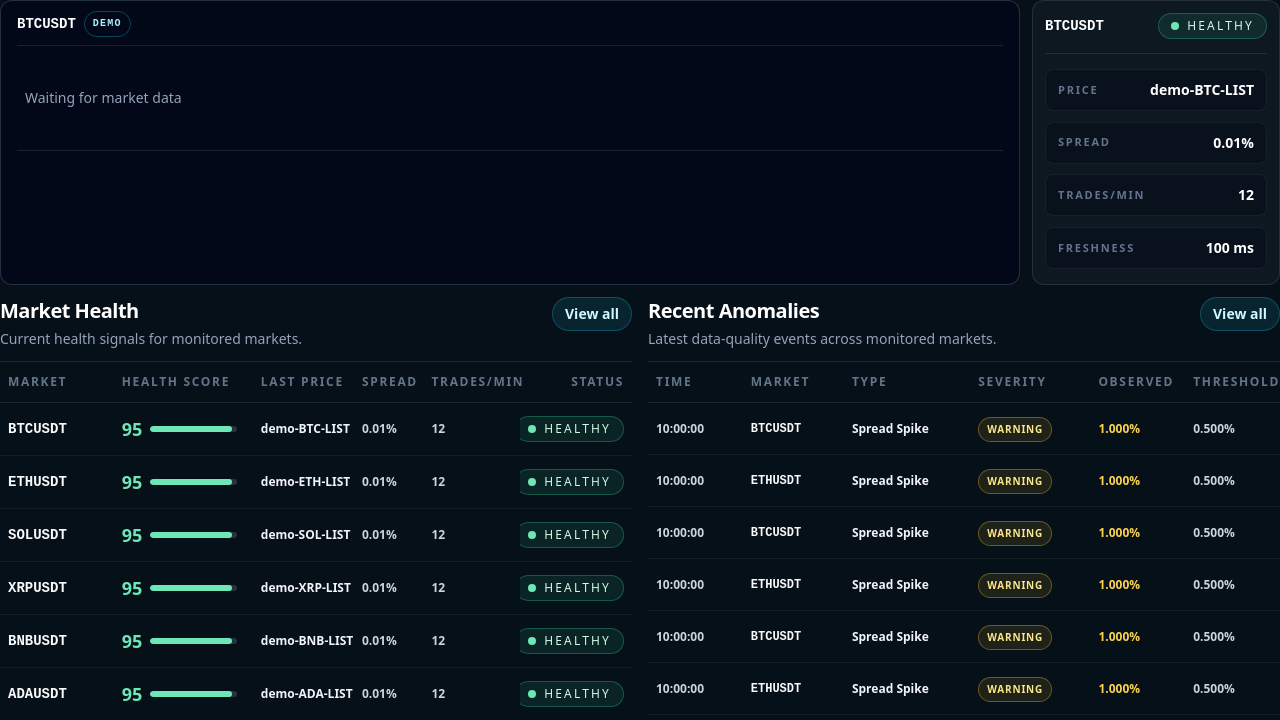
Test: dashboard popup mode ownership › keeps an error attached to the current mode and symbol
This screenshot has width=1280, height=720.
Click the button with aria-label "Open ETHUSDT market detail" at point(316, 482), box [0,456,632,508]
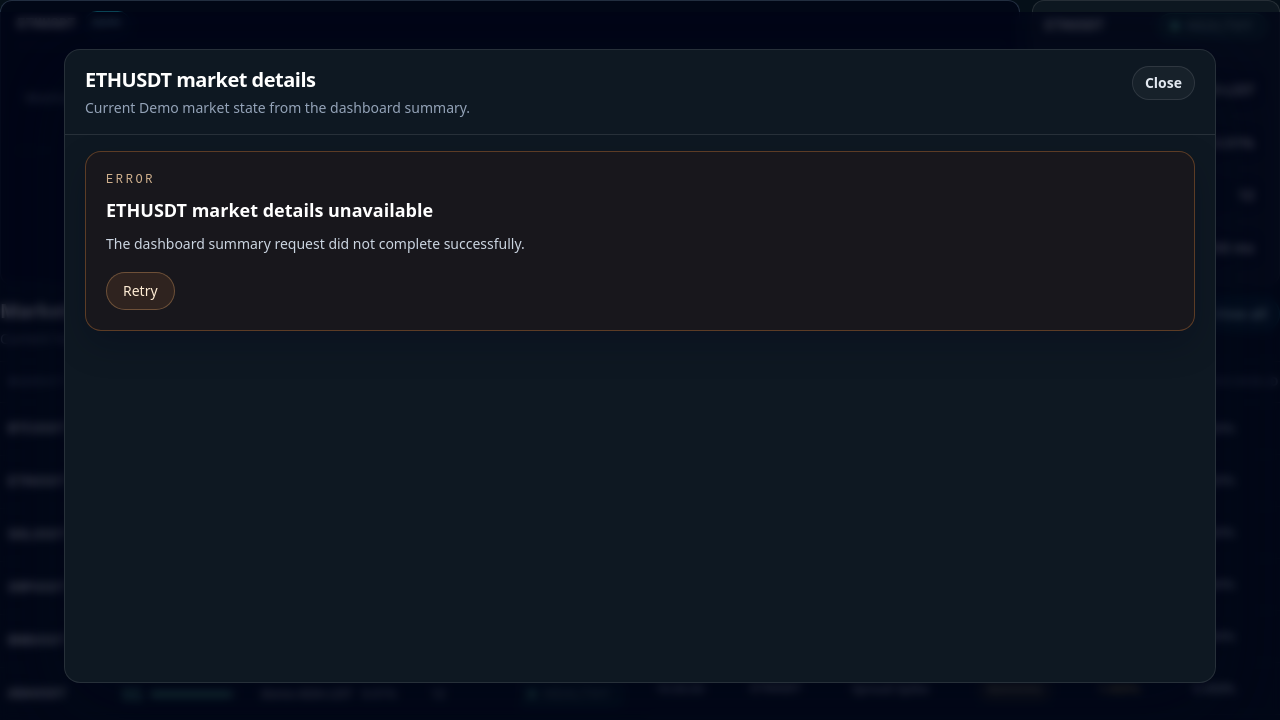
Result: the heading "ETHUSDT market details unavailable" is shown at [106,198,433,222]
Result: the text "The dashboard summary request did not complete successfully." is shown at [106,234,525,253]
